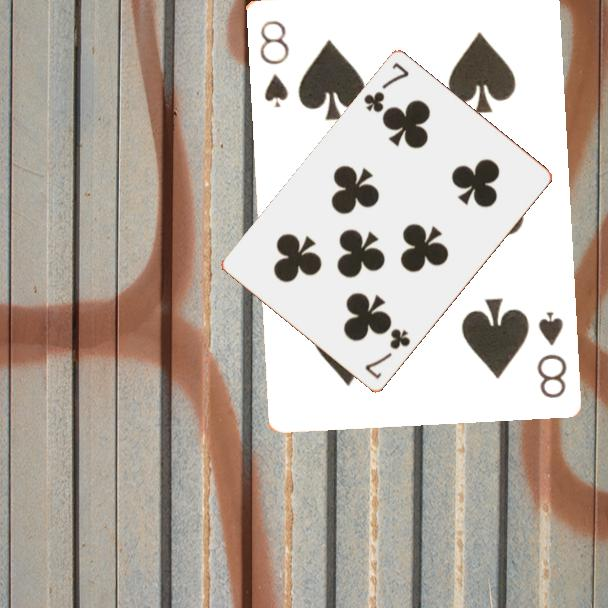c07: (361, 325, 414, 382), (360, 59, 412, 116)
s08: (255, 16, 292, 110), (533, 307, 569, 400)
